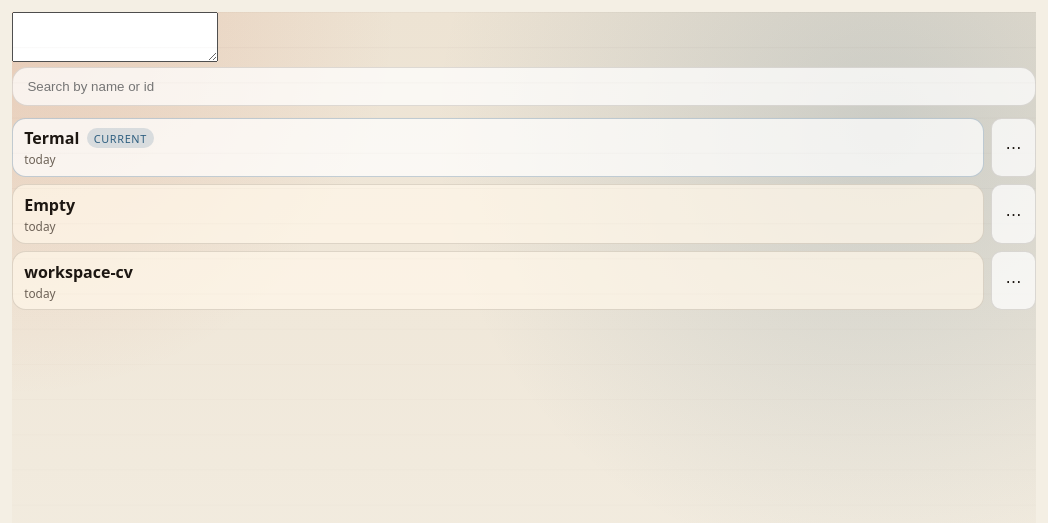
Test: saved workspace new-tab links › does not steal focus that moved outside before the deferred dismiss
The width and height of the screenshot is (1048, 523).
What coordinates should you click on to do the following:
click the button named "Actions for workspace Empty"
I would click on:
 (1013, 214)
Its box is 991,184 -> 1036,244.
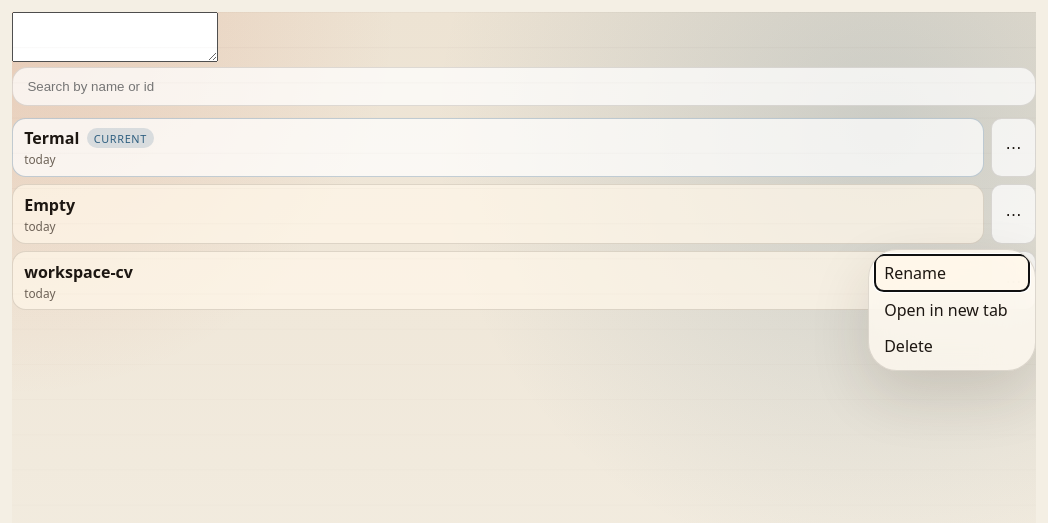
What coordinates should you click on to do the following:
click the menu item with aria-label "Open in new tab: workspace Empty"
I would click on:
 (946, 310)
Its box is 884,299 -> 1008,321.
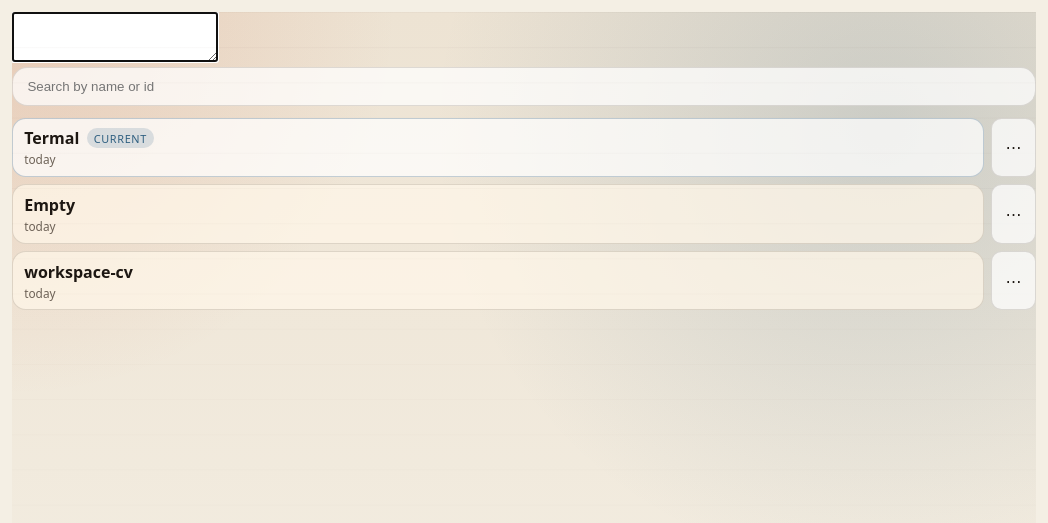
Result: the menu is gone
